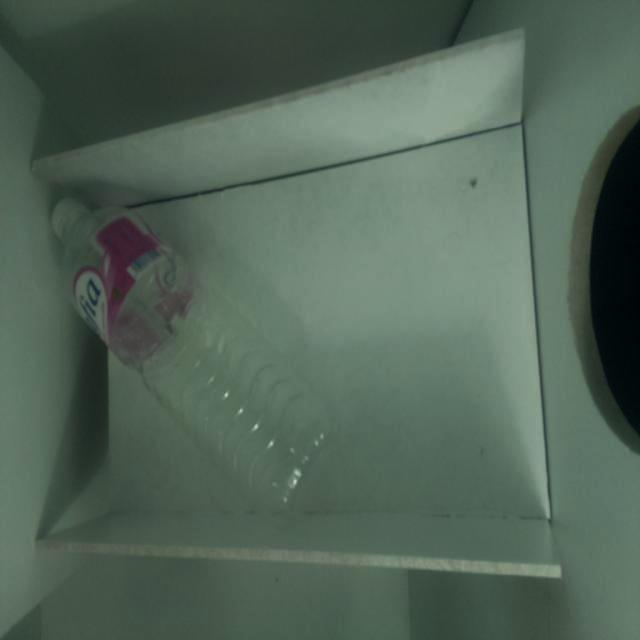bottle: (50, 195, 335, 509)
